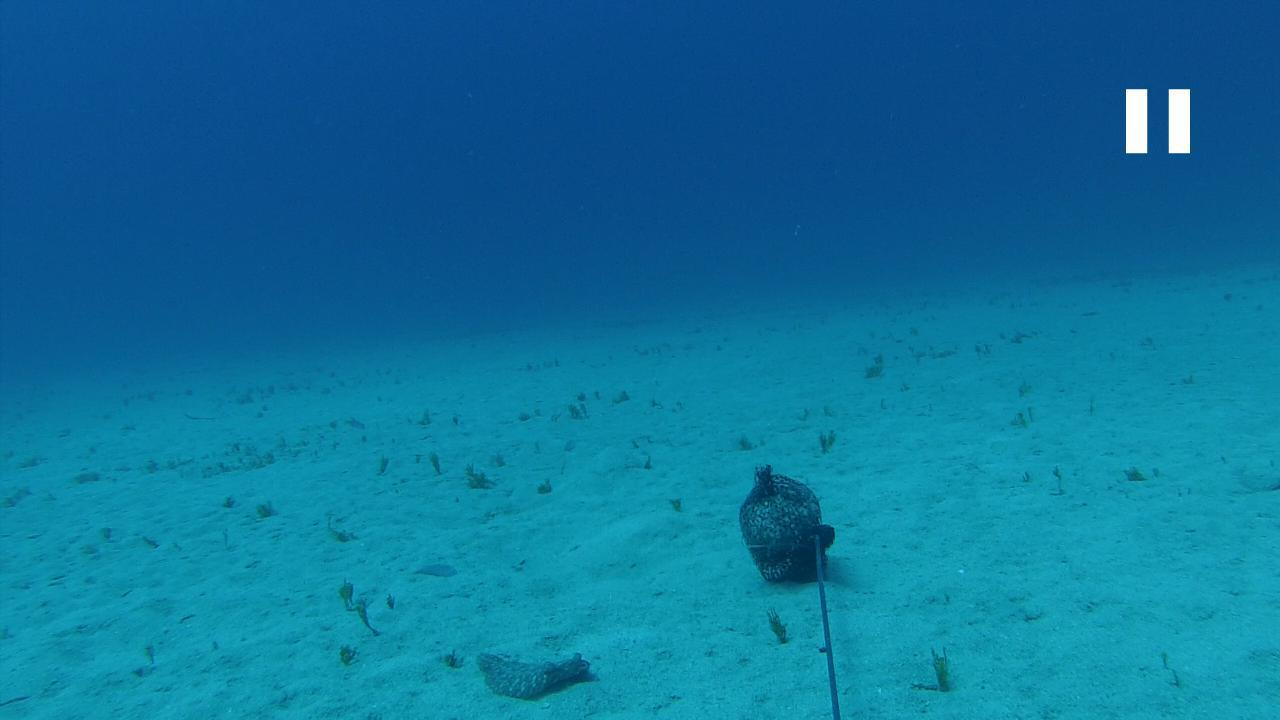bothus: (470, 644, 602, 703)
